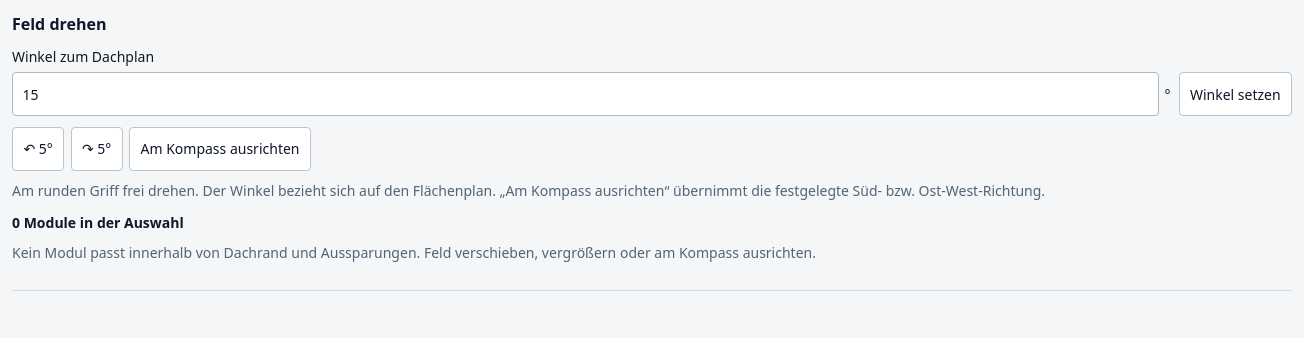
Scenario: Flachdachfeld genau ausrichten › verwirft ungültige Eingabe  statt still 0° zu setzen
The width and height of the screenshot is (1304, 338).
Clear the field named "Felddrehung in Grad" at (585, 94), box x1=12 y1=72 x2=1159 y2=116
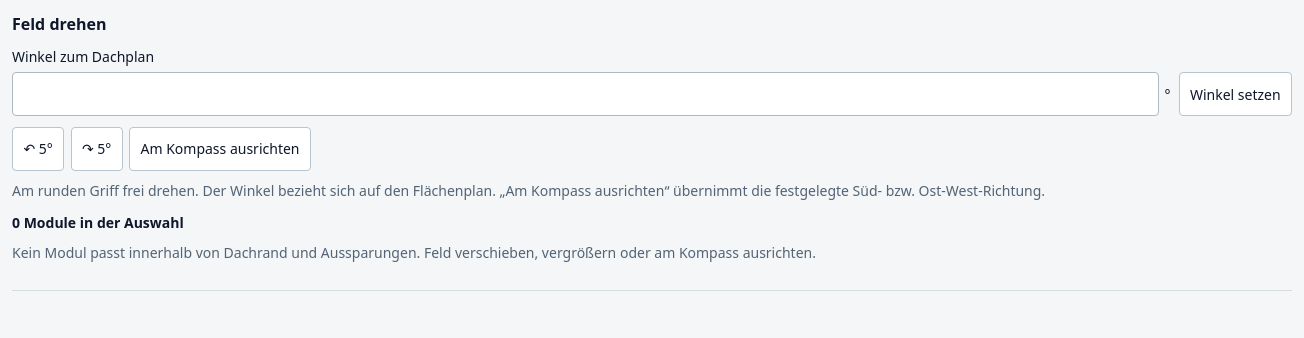
Click the button "Winkel setzen".
click(1235, 94)  # box x1=1178 y1=72 x2=1292 y2=116
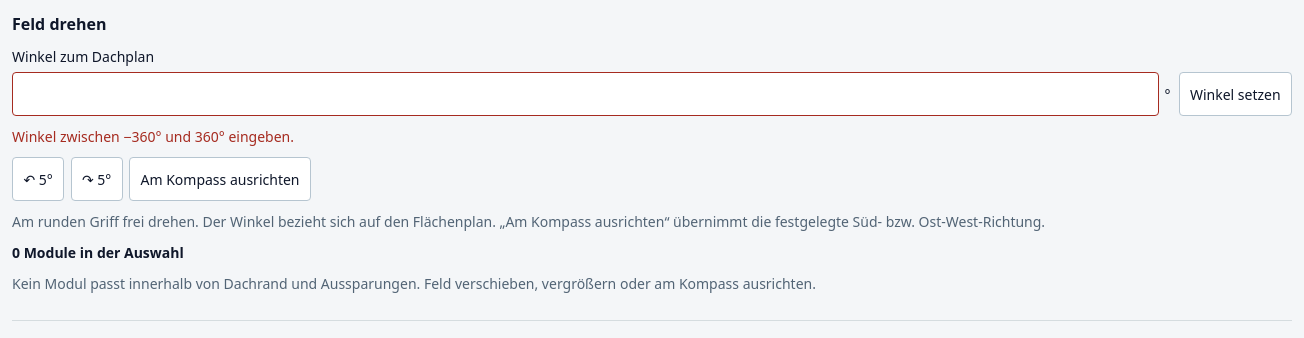
Check: the message "Winkel zwischen −360° und 360° eingeben." is shown, box x1=12 y1=127 x2=294 y2=146
